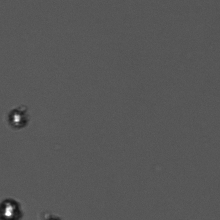Living Cell: (6, 105, 30, 134), (1, 196, 25, 218)
